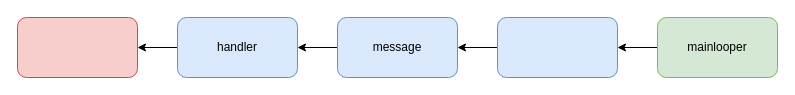
The diagram is 795 pixels wide and 95 high, and some of its shapes have lost their labels. Here are the shapes that lost their labels. From the top down, the box of each, then its label:
(16, 16, 138, 78): activity
(496, 16, 618, 78): messagequeue
